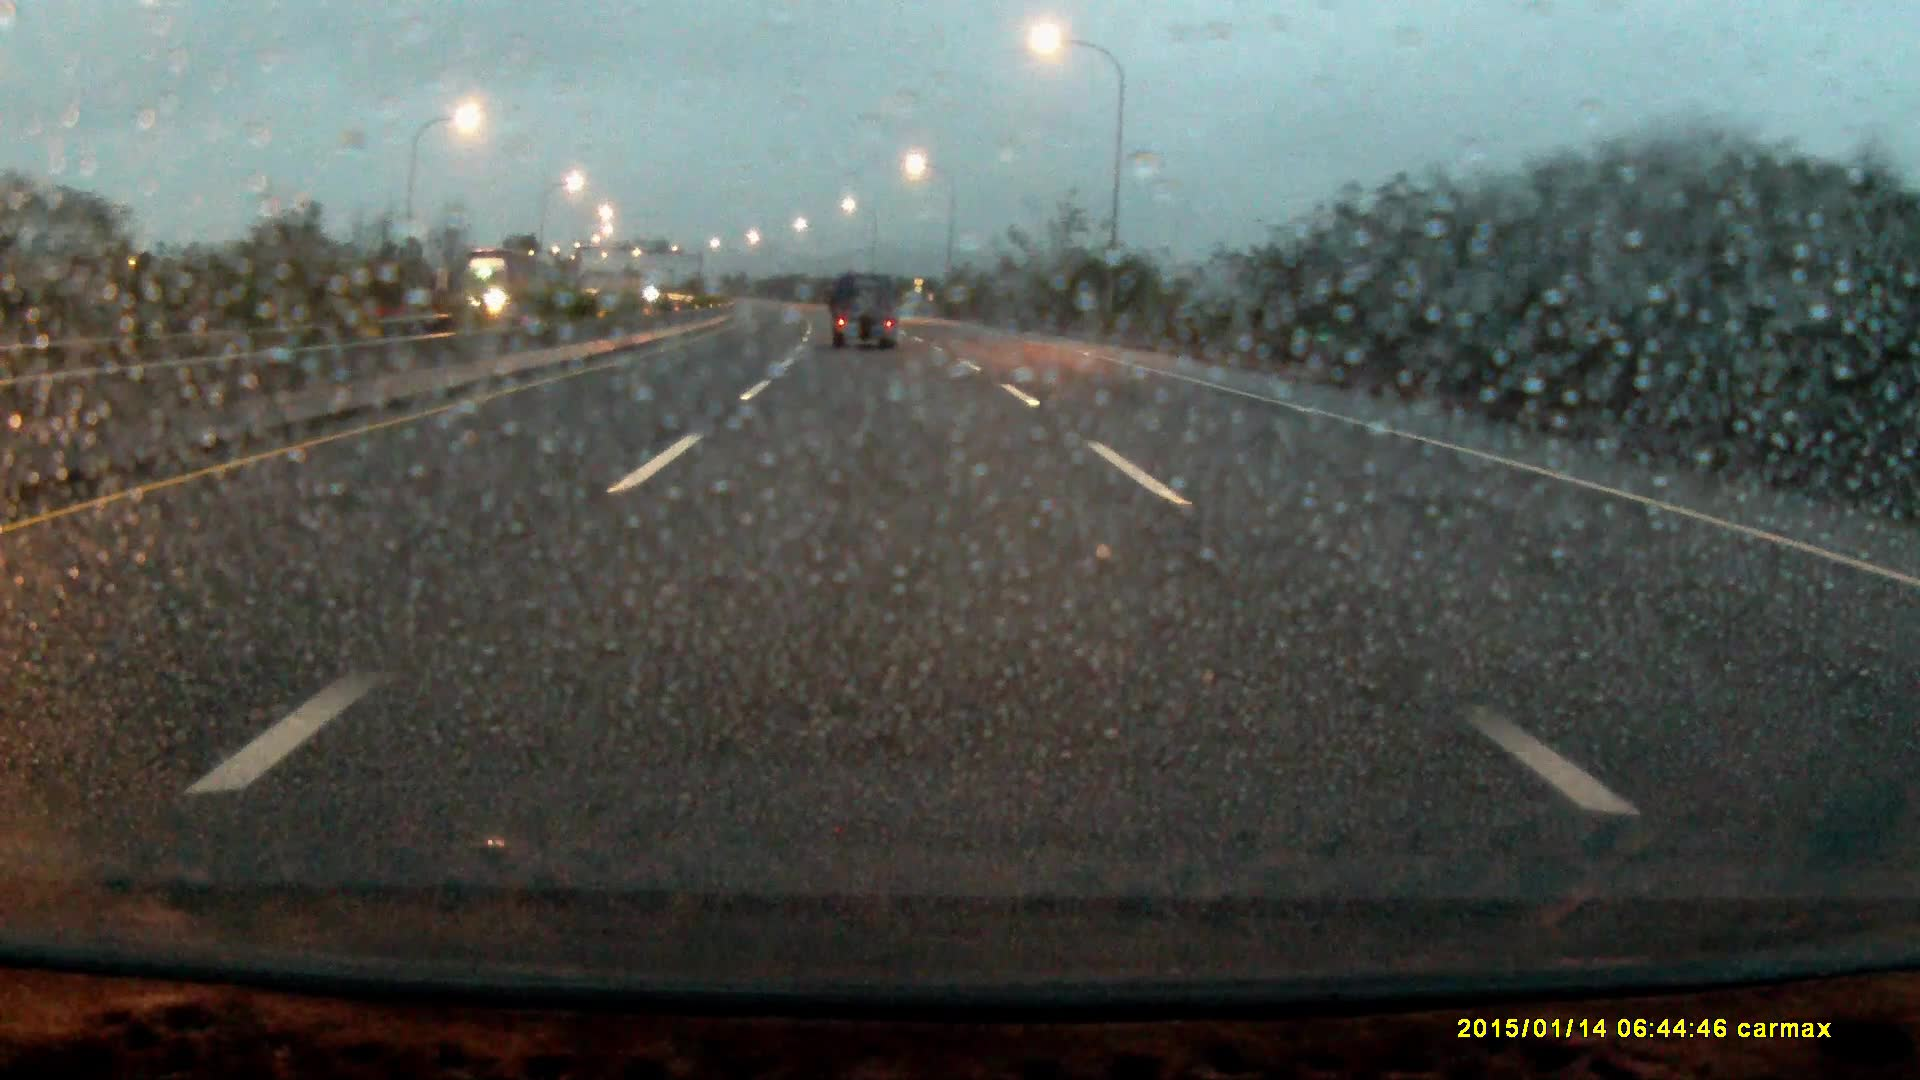vehicle: (447, 247, 553, 331), (832, 272, 902, 351)
